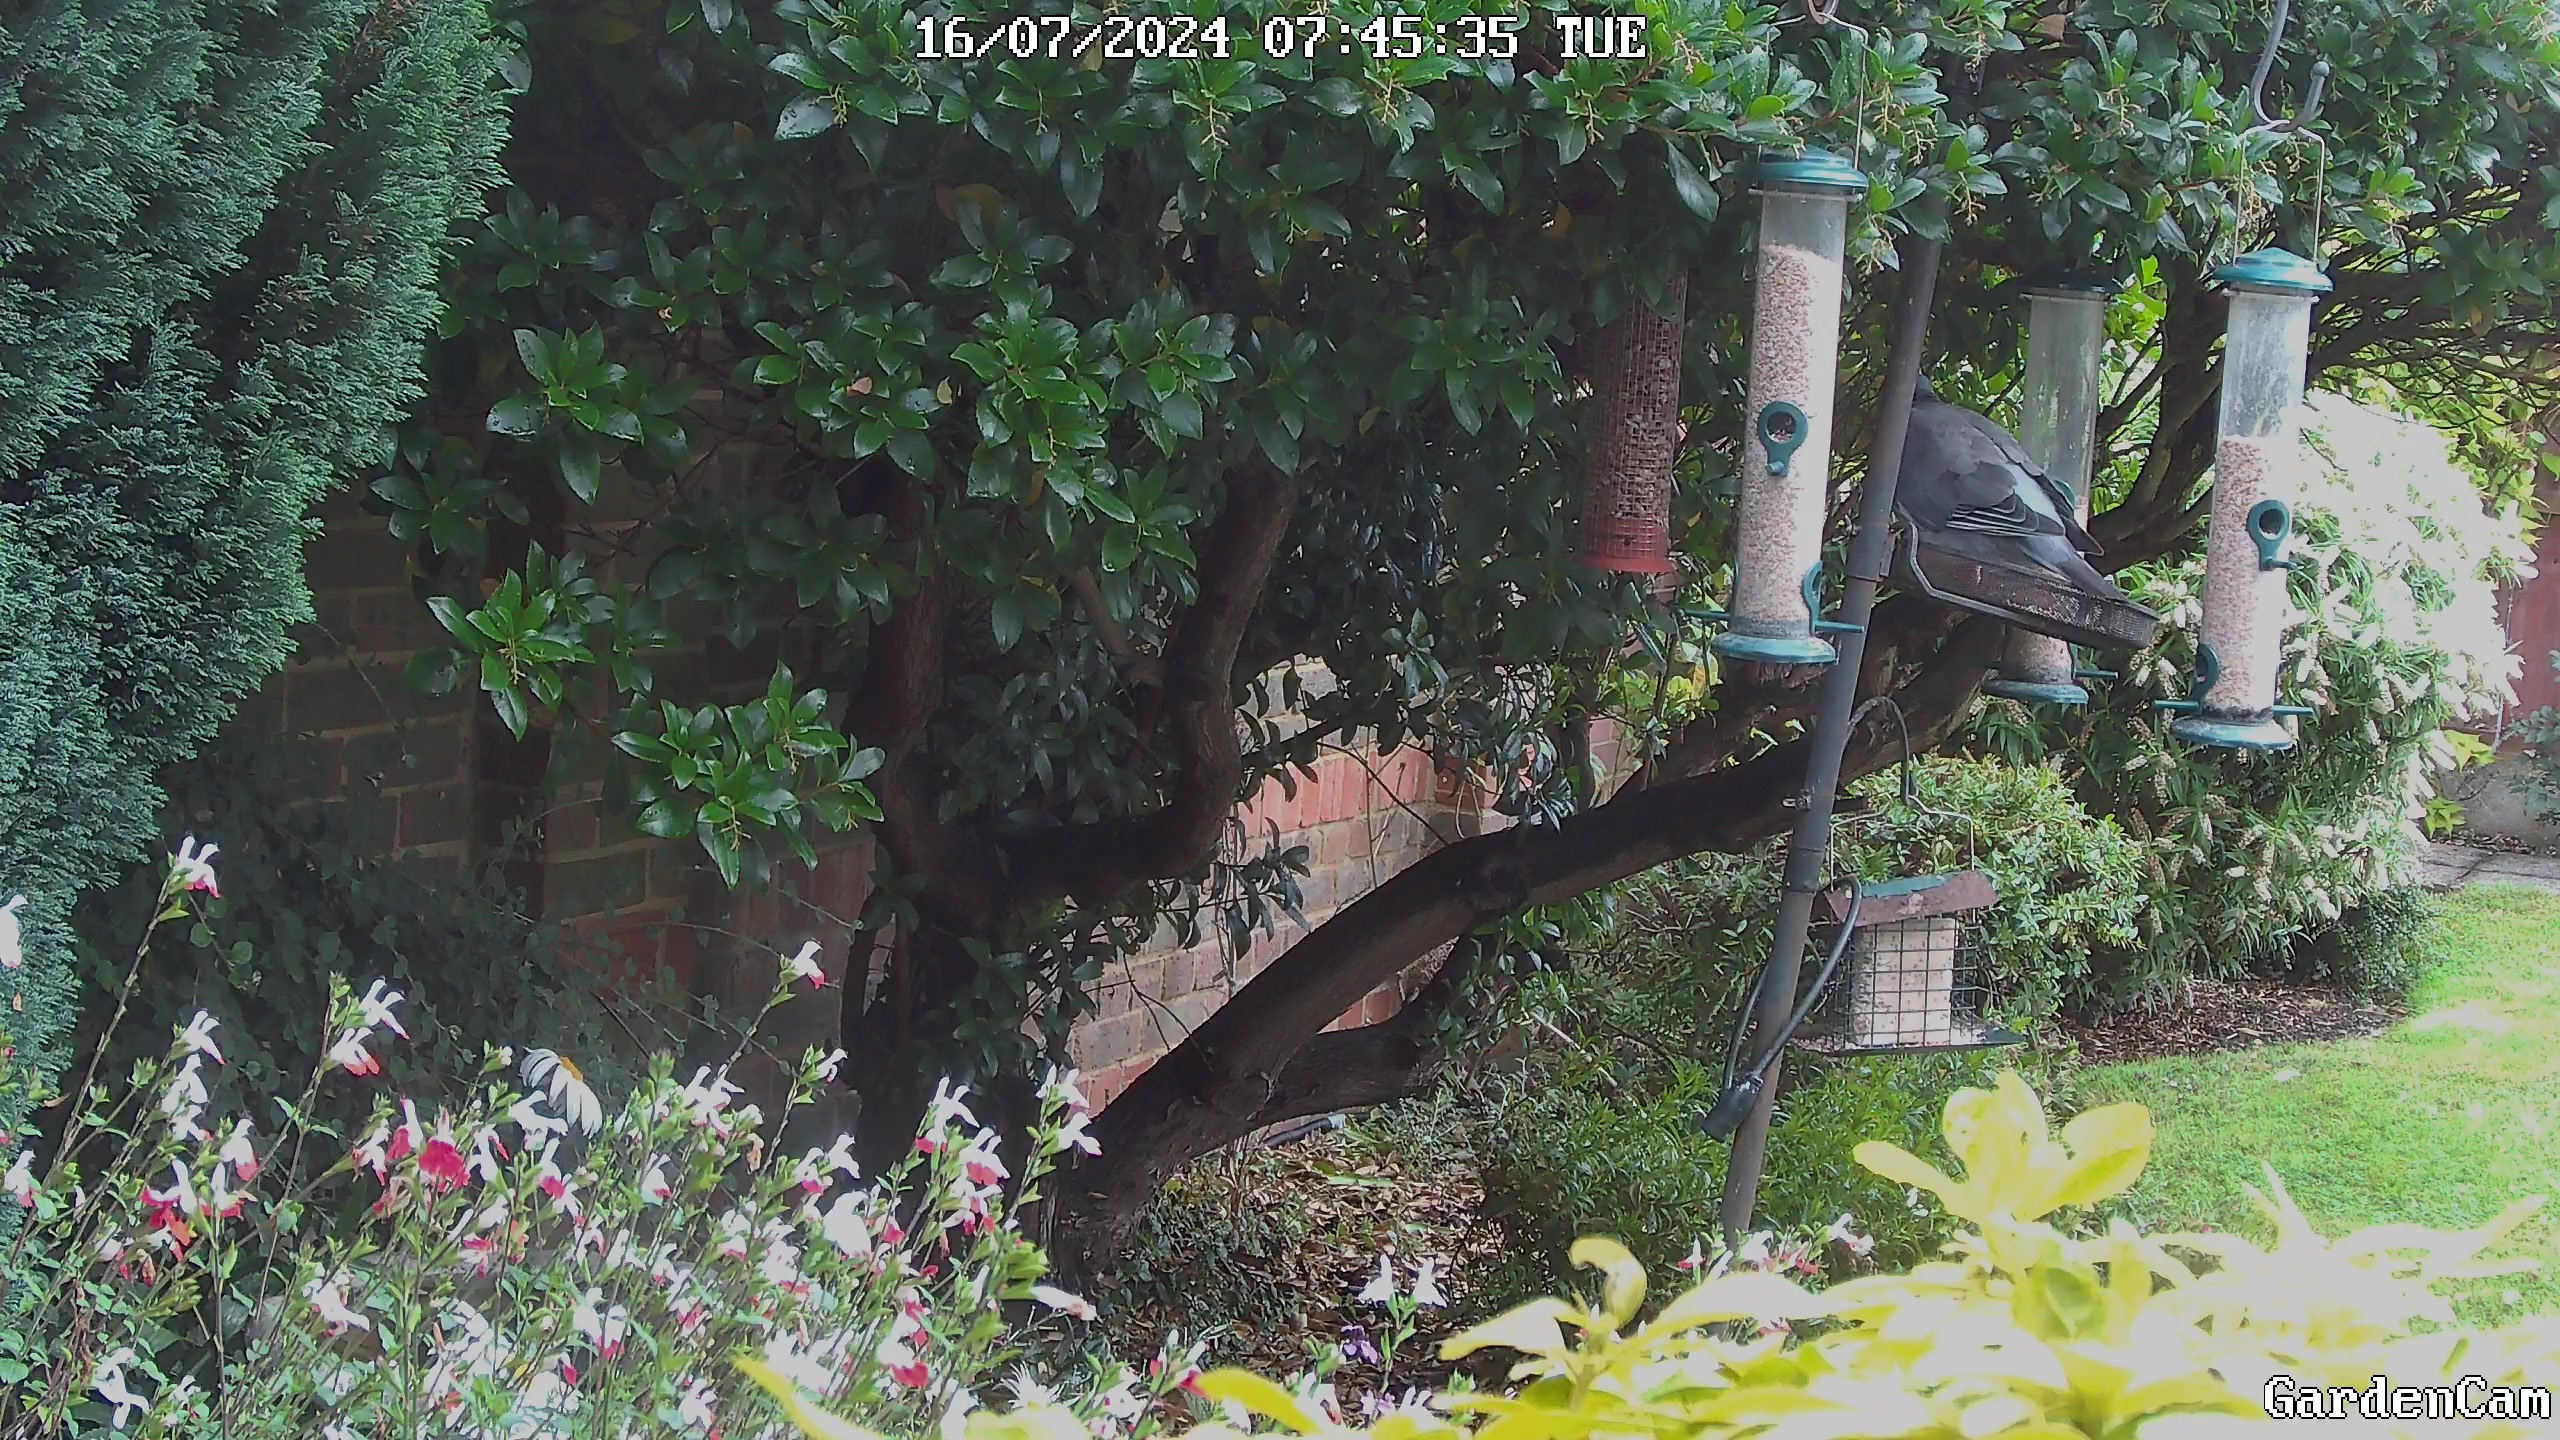Wood_Pigeon: (1869, 355, 2142, 621)
